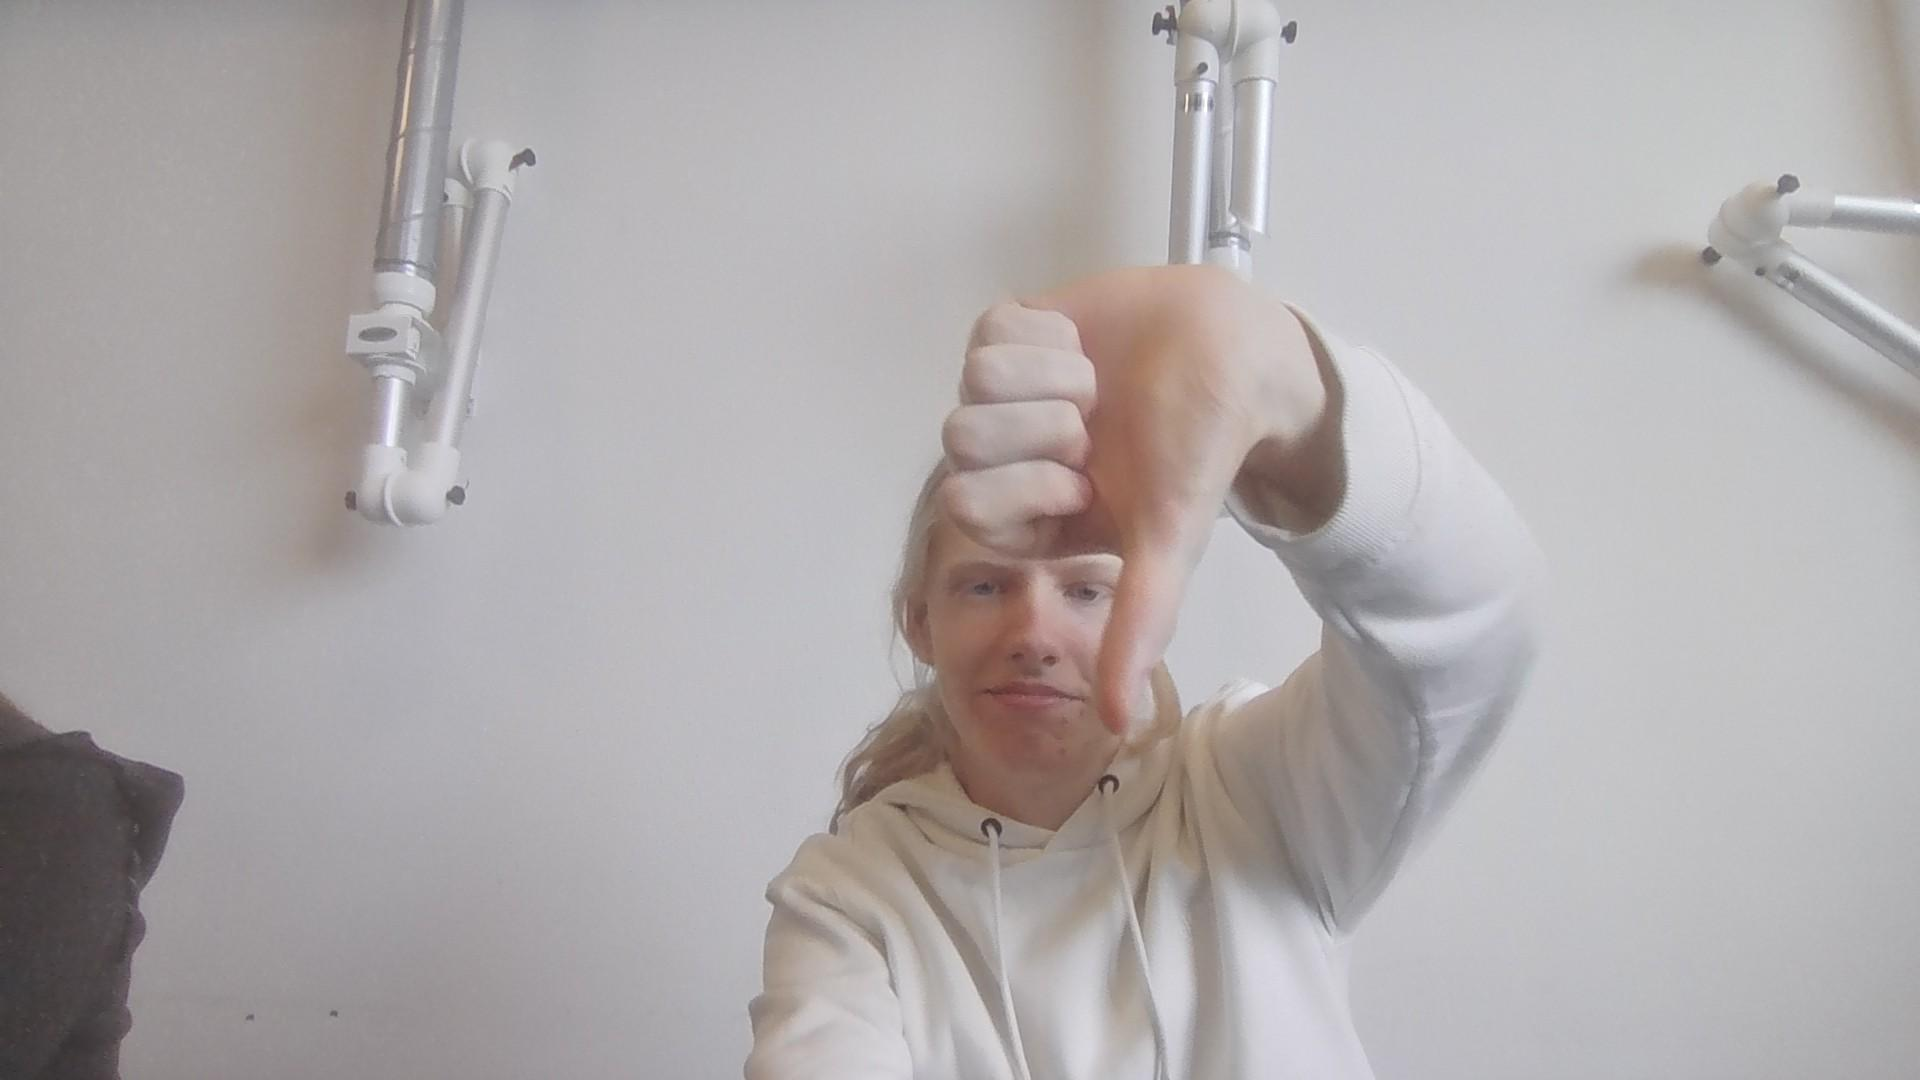thumbs down: (939, 256, 1273, 741)
